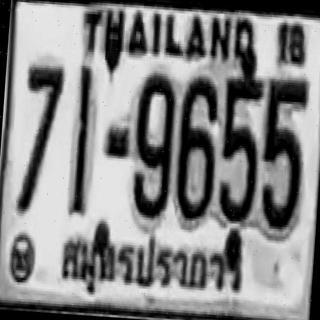N01: (66, 66, 95, 214)
N05: (258, 76, 308, 230), (215, 67, 264, 224)
N06: (172, 72, 218, 222)
N07: (14, 61, 64, 213)
N09: (128, 68, 176, 218)
P57: (56, 224, 251, 300)
